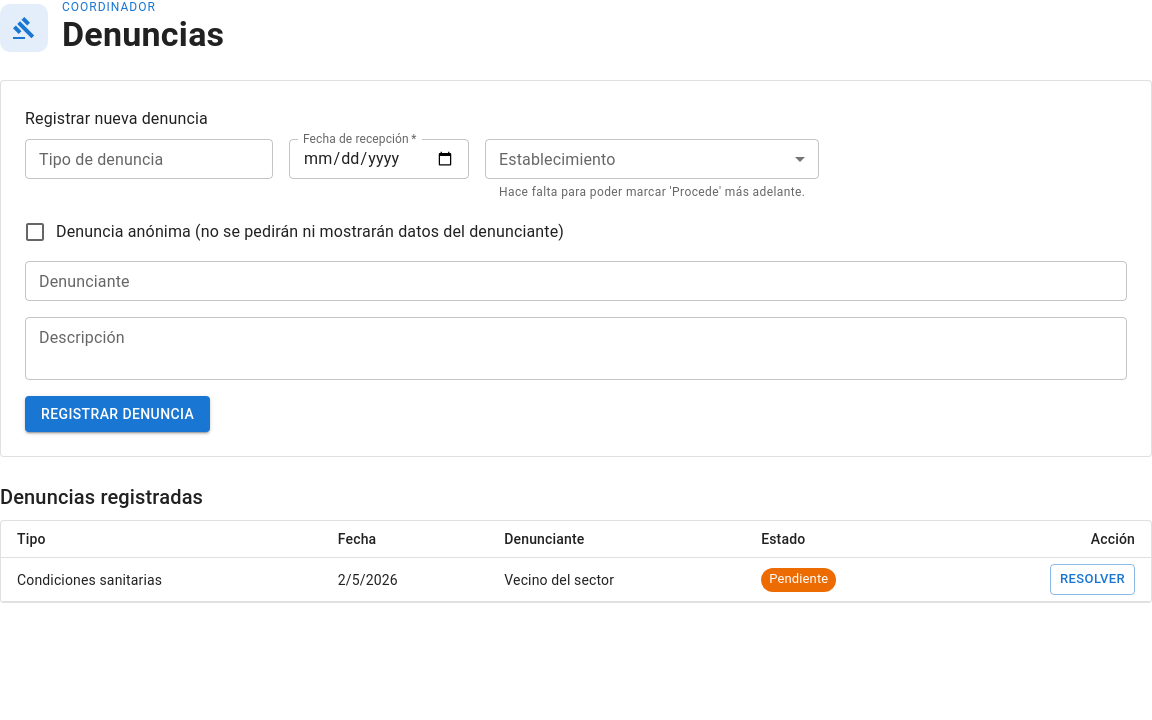
Denuncias › resuelve una denuncia como Remisión
Expected: the text "Condiciones sanitarias" is shown, [1,558,322,602]
Click the button "Resolver". click: [1093, 580]
box: [1050,564,1135,595]
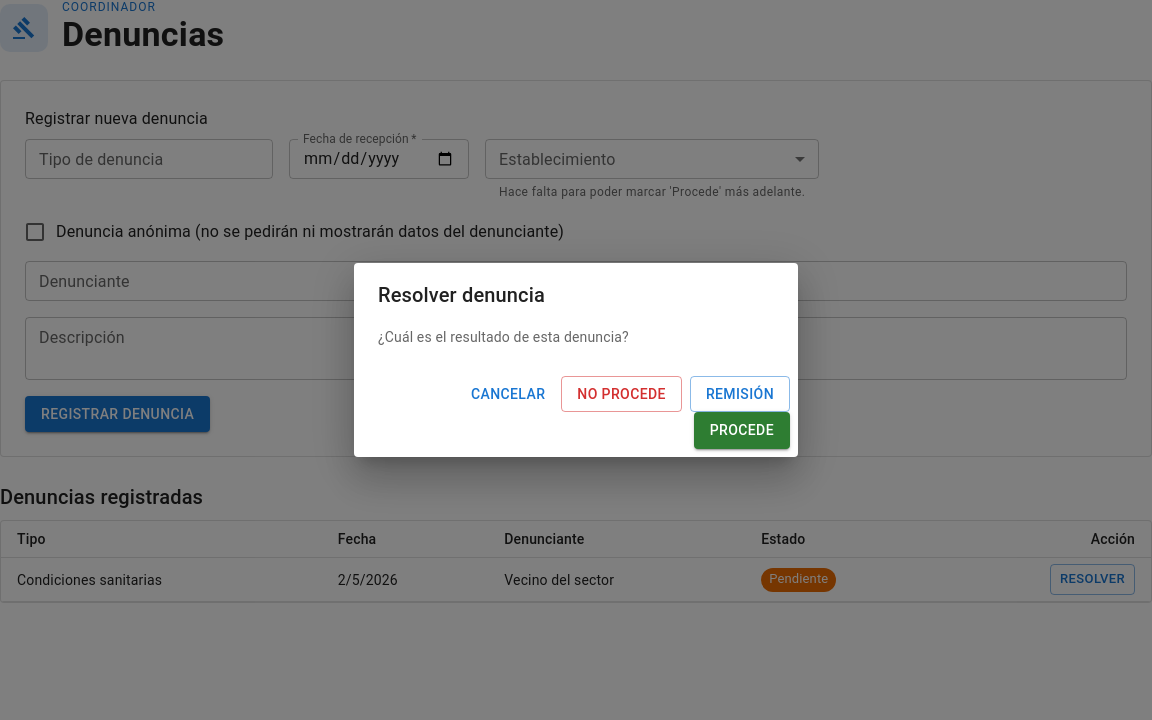
Click the button "Remisión". click: [740, 394]
box: [690,376,790,412]
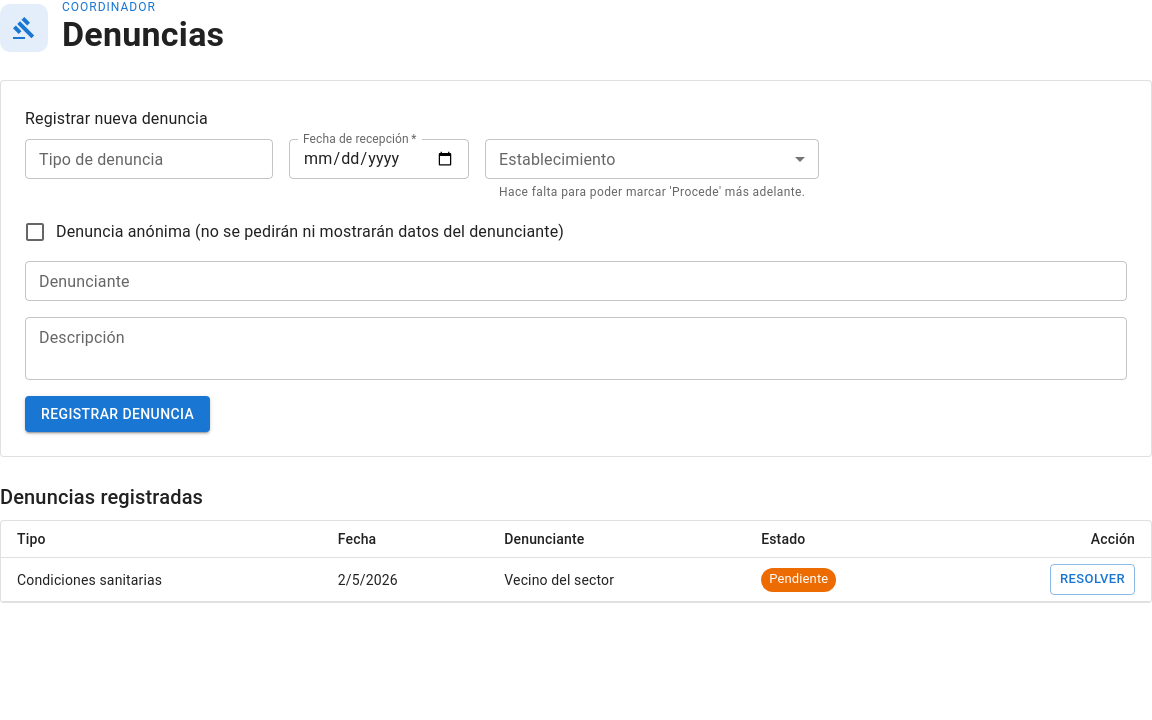
Expected: the heading "Resolver denuncia" is gone
